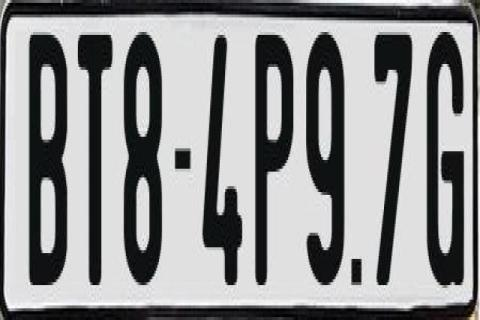0: (199, 32, 242, 296), (372, 32, 416, 288), (305, 23, 348, 280), (122, 32, 160, 294)
B: (27, 29, 65, 279)
G: (426, 23, 466, 291)
P: (252, 27, 290, 286)
T: (76, 35, 114, 288)
